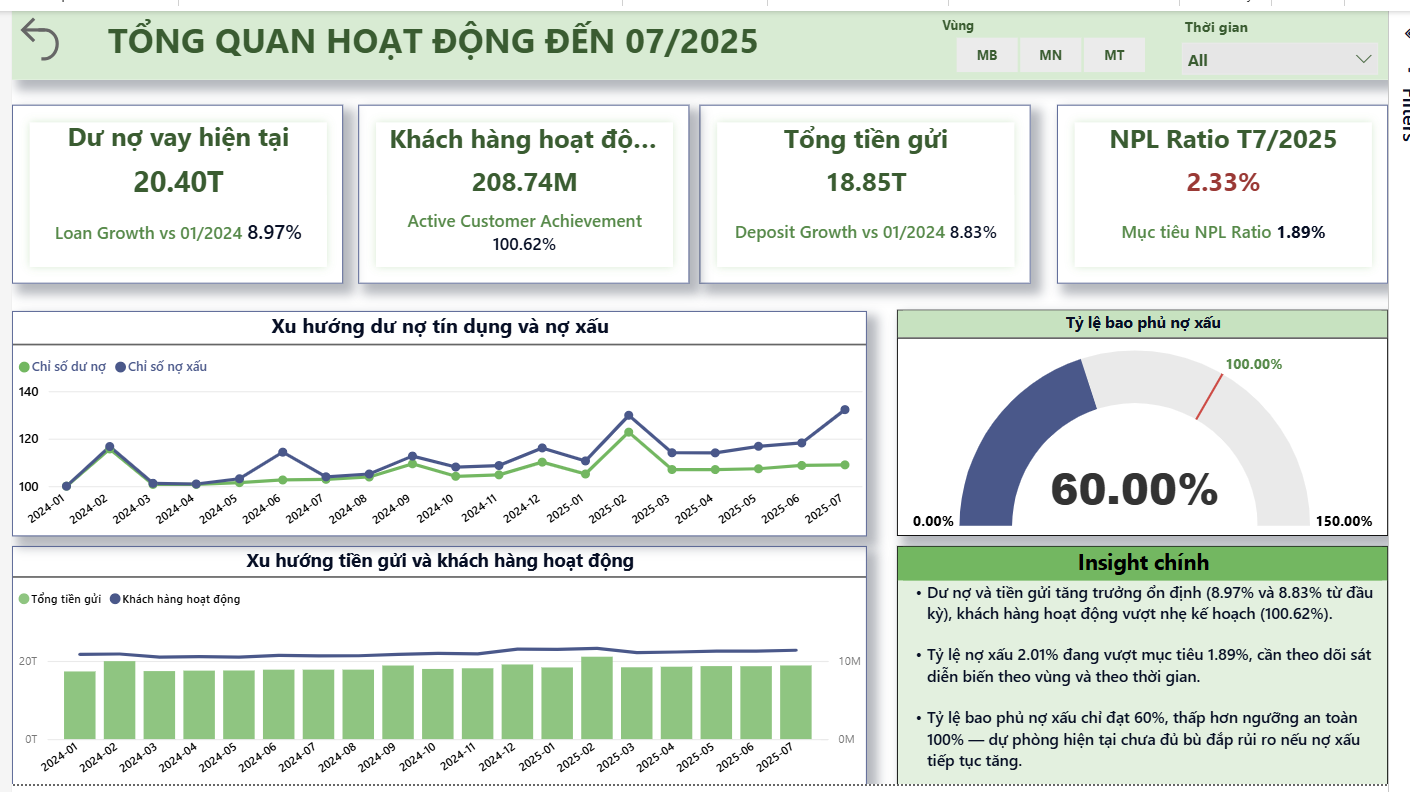

The dashboard page shown, as its layout file describes it:
{"tool":"powerbi","page":{"name":"Tổng quan hoạt động","canvas":[1280,720],"ordinal":1},"visuals":[{"type":"cardVisual","fields":{"Data":["Fact Measures.Total Deposit"]},"box":[639.5,87.2,308.1,166.3],"z":0},{"type":"cardVisual","fields":{"Data":["Fact_Loan.Loan Outstanding Latest"]},"box":[0,87.2,308.1,166.3],"z":1000},{"type":"cardVisual","fields":{"Data":["Sum(Fact_Digital.MAU)"]},"box":[322.1,87.2,308.1,166.3],"z":2000},{"type":"cardVisual","fields":{"Data":["Fact_NPL.NPL Ratio Latest"]},"box":[972.1,87.2,308.1,166.3],"z":3000},{"type":"lineChart","title":"Xu hướng dư nợ tín dụng và nợ xấu ","fields":{"Category":["Date.YearMonth"],"Y":["Fact_Loan.Loan OS Index","Fact_NPL.NPL Index"]},"box":[0,279.1,795.4,209.3],"z":4000},{"type":"lineClusteredColumnComboChart","title":"Xu hướng tiền gửi và khách hàng hoạt động","fields":{"Category":["Date.YearMonth"],"Y":["Fact_Loan.Total Deposit"],"Y2":["Fact_Digital.MAU_"]},"box":[0,497.7,795.4,222.1],"z":5000},{"type":"textbox","box":[0,0,1280,64],"z":6000},{"type":"slicer","fields":{"Values":["Date.YearMonth"]},"box":[1077.5,0,202.5,64],"z":7000},{"type":"slicer","fields":{"Values":["Dim_Unit.RegionGroup"]},"box":[851.8,0,225.7,64],"z":8000},{"type":"gauge","title":"Tỷ lệ bao phủ nợ xấu ","fields":{"Y":["Fact_NPL.Provision Coverage"]},"box":[823.7,277.6,456.6,210.1],"z":9000},{"type":"textbox","title":"Insight chính ","box":[823.3,497.7,457,222.1],"z":10000},{"type":"actionButton","box":[0,0,53.5,52],"z":11000}]}

Visuals, with their boxes in screenshot pixels (x1, y1, x2, y2), scaled from the page's 1280x720 canvas onto the 1410x792 screenshot:
cardVisual - Fact Measures.Total Deposit: {"x1": 704, "y1": 96, "x2": 1044, "y2": 279}
cardVisual - Fact_Loan.Loan Outstanding Latest: {"x1": 0, "y1": 96, "x2": 339, "y2": 279}
cardVisual - Sum(Fact_Digital.MAU): {"x1": 355, "y1": 96, "x2": 694, "y2": 279}
cardVisual - Fact_NPL.NPL Ratio Latest: {"x1": 1071, "y1": 96, "x2": 1409, "y2": 279}
"Xu hướng dư nợ tín dụng và nợ xấu " lineChart: {"x1": 0, "y1": 307, "x2": 876, "y2": 537}
"Xu hướng tiền gửi và khách hàng hoạt động" lineClusteredColumnComboChart: {"x1": 0, "y1": 547, "x2": 876, "y2": 791}
textbox: {"x1": 0, "y1": 0, "x2": 1409, "y2": 70}
slicer - Date.YearMonth: {"x1": 1187, "y1": 0, "x2": 1409, "y2": 70}
slicer - Dim_Unit.RegionGroup: {"x1": 938, "y1": 0, "x2": 1187, "y2": 70}
"Tỷ lệ bao phủ nợ xấu " gauge: {"x1": 907, "y1": 305, "x2": 1409, "y2": 536}
"Insight chính " textbox: {"x1": 907, "y1": 547, "x2": 1409, "y2": 791}
actionButton: {"x1": 0, "y1": 0, "x2": 59, "y2": 57}
